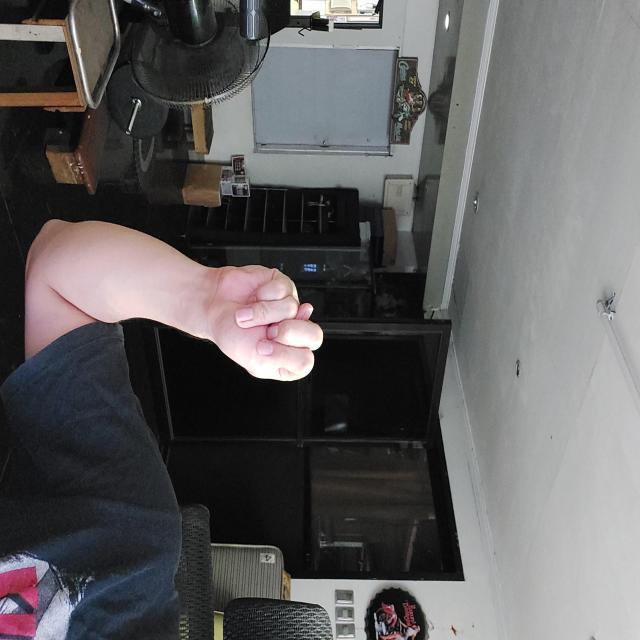N: (263, 316, 382, 434)
